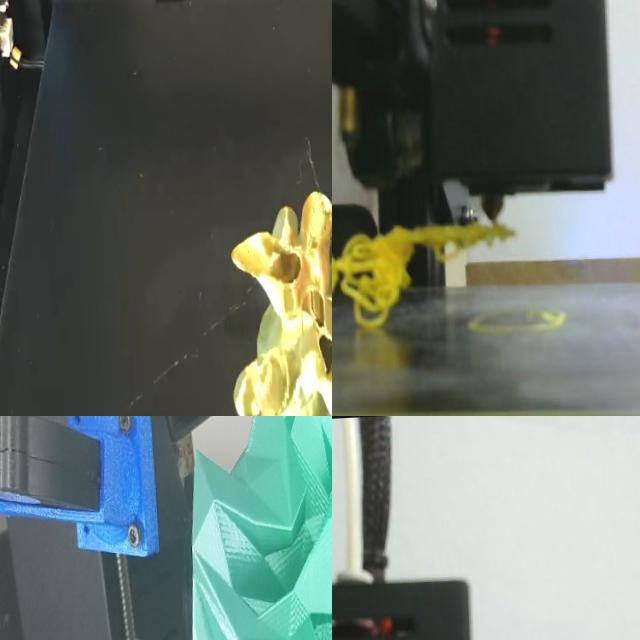spaghetti: (332, 224, 513, 328)
